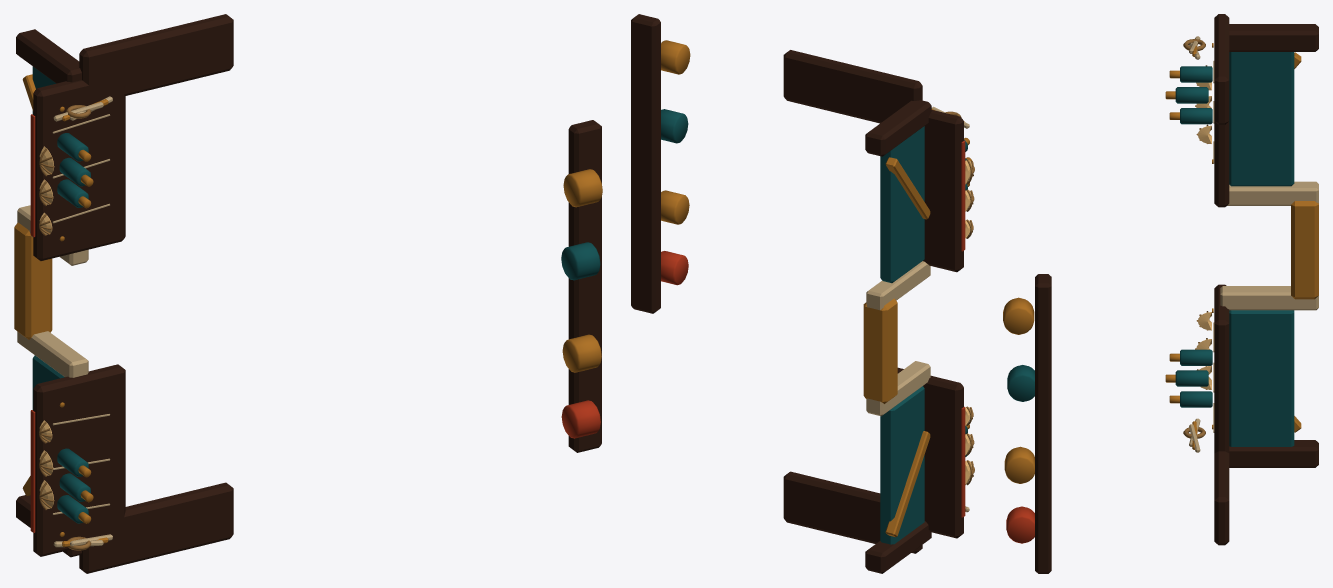
File: SM_LT_TraderHub_Counter.obj
3 renders of one model, left to right at view 1: azimuth 30°, elevation 25°; view 2: azimuth 150°, elevation 25°; view 3: azimuth 270°, elevation 25°, orthographic. The views are drawn at different scales.
Visible parts, largest first — view 1: SM_LT_TraderHub_Counter_EXPORT; view 2: SM_LT_TraderHub_Counter_EXPORT; view 3: SM_LT_TraderHub_Counter_EXPORT.
Part boxes in pixels (box(x1,y1,x2,y2)): SM_LT_TraderHub_Counter_EXPORT: box(14, 14, 602, 573); SM_LT_TraderHub_Counter_EXPORT: box(631, 14, 974, 573); SM_LT_TraderHub_Counter_EXPORT: box(1003, 14, 1318, 573).
Bounding box in the file's own units: 590 × 629 × 384.
